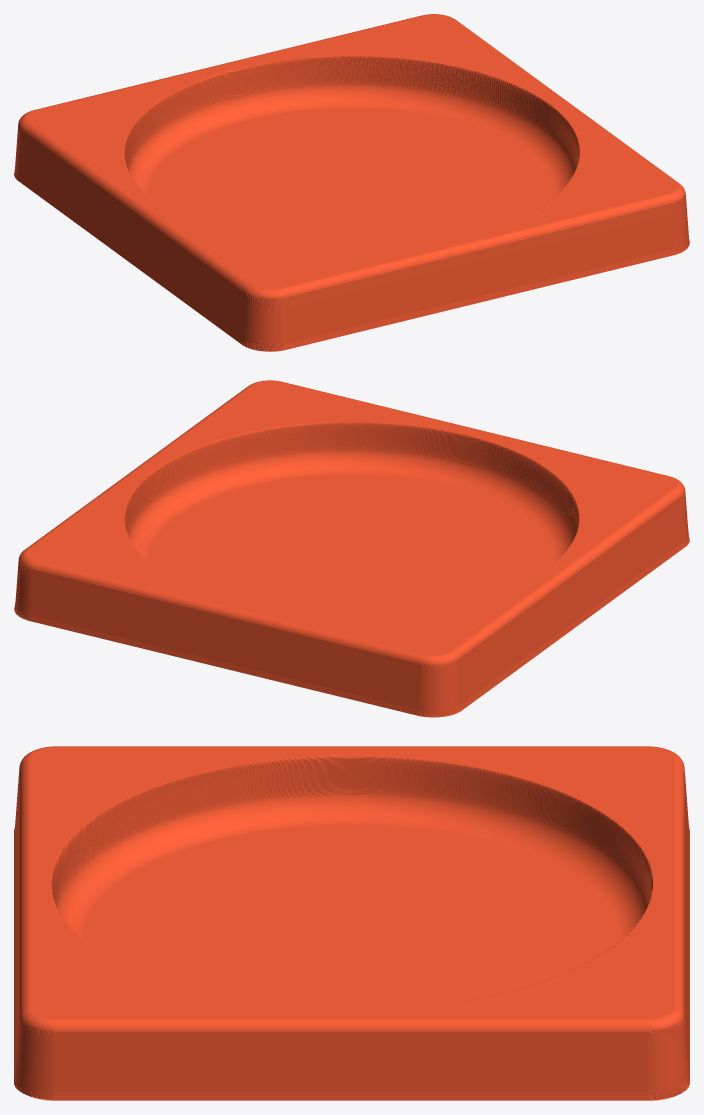
Rendered from mold.glb.
The picture shows the model from 3 angles, top to bottom: view 1: azimuth 30°, elevation 25°; view 2: azimuth 150°, elevation 25°; view 3: azimuth 270°, elevation 25°; orthographic projection. The views are drawn at different scales.
Parts seen in each view (by area): view 1: geometry_0; view 2: geometry_0; view 3: geometry_0.
Boxes of the visible parts, x1,y1,x2,y2 form: geometry_0: (14,14,689,351); geometry_0: (14,380,689,717); geometry_0: (14,746,689,1100).
Size of the model in its own units: 0.1435 by 0.0175 by 0.1435.
